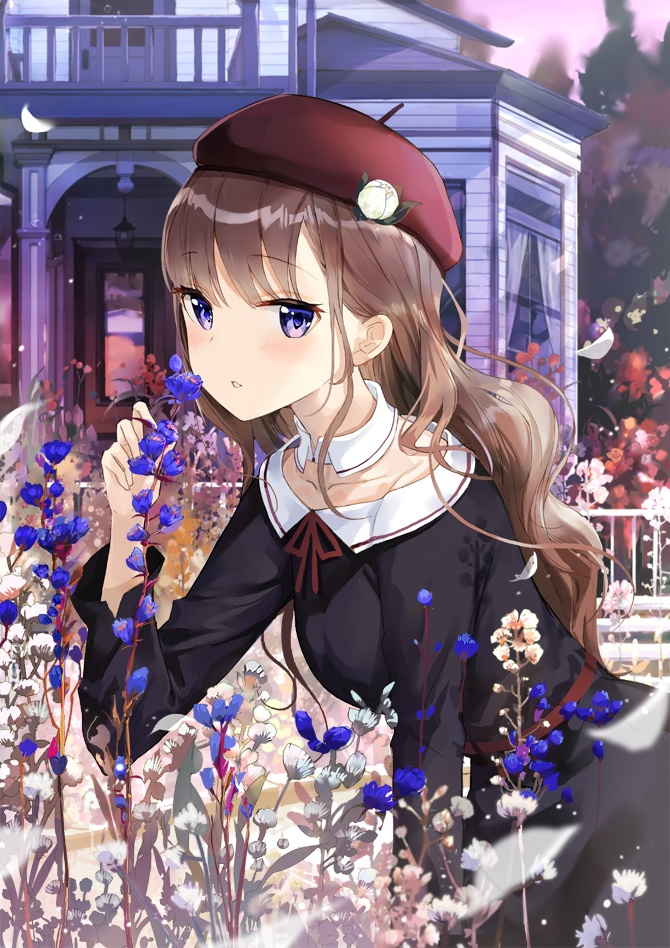纸片人正脸: (149, 108, 444, 430)
